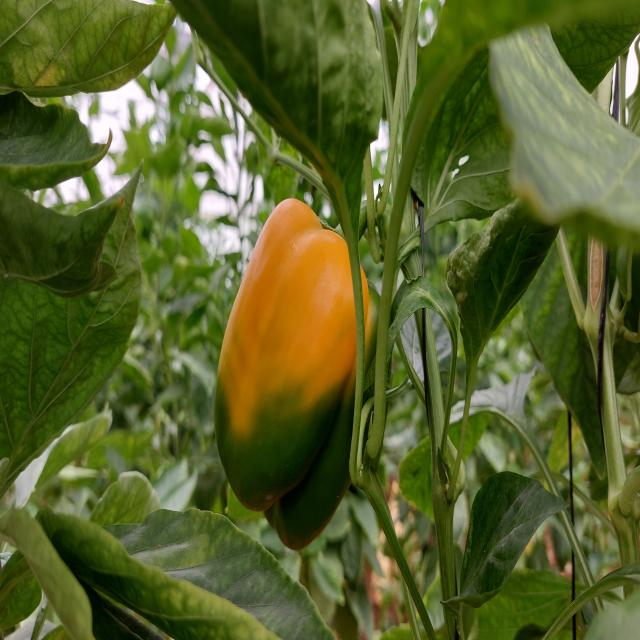GreenishYellow--Can-be-Harvested: (215, 182, 388, 565)
